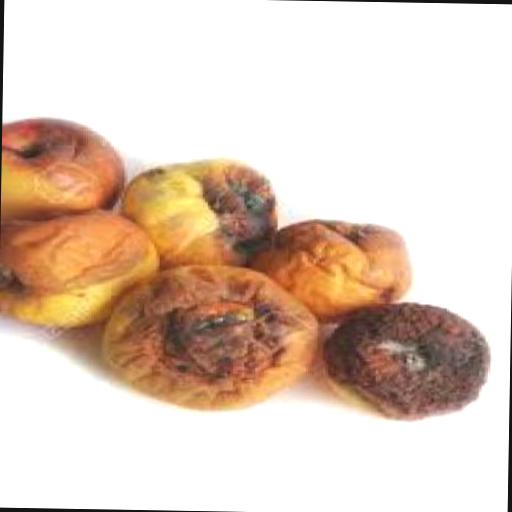biodegradable: (98, 261, 316, 409), (318, 299, 489, 421), (0, 200, 159, 331), (117, 156, 279, 272), (245, 216, 412, 325), (1, 112, 123, 226)
